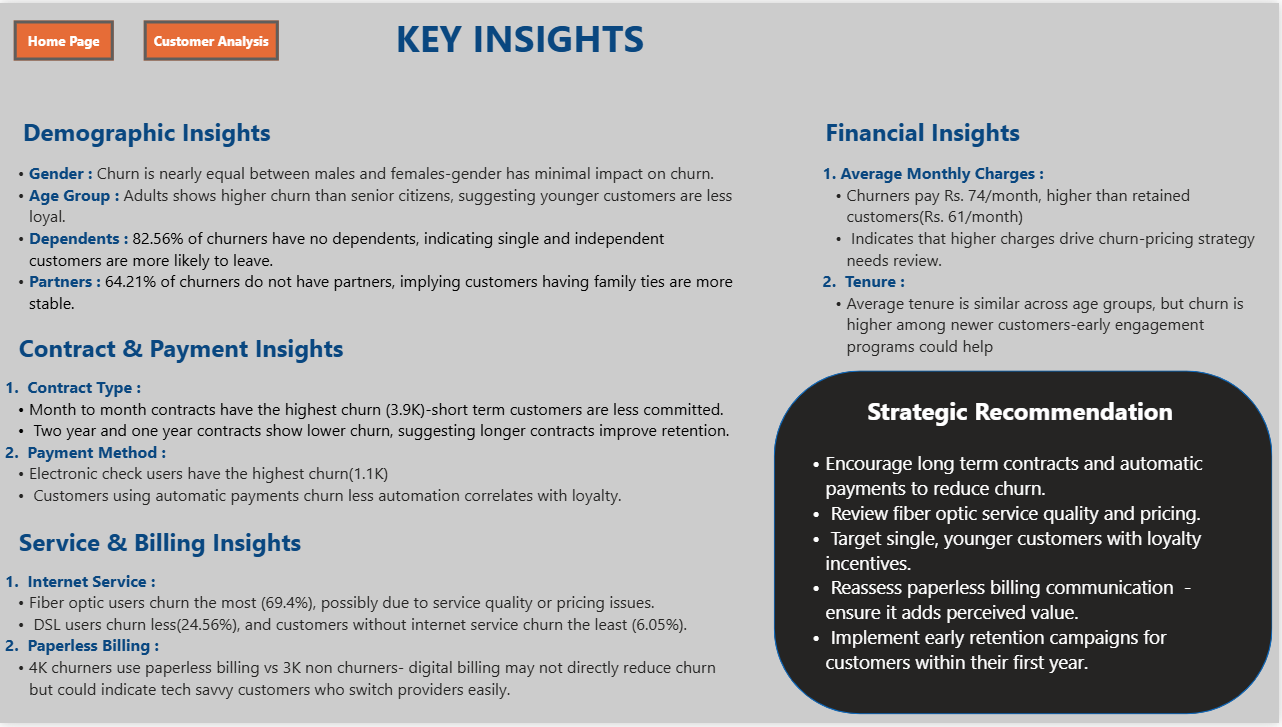

What the dashboard file says about the page in this screenshot:
{"tool":"powerbi","page":{"name":"Key Insights","canvas":[1280,720],"ordinal":2},"visuals":[{"type":"actionButton","box":[13.8,17.5,100,40],"z":0},{"type":"actionButton","box":[143.8,17.5,135,40],"z":1000},{"type":"textbox","box":[370,3.8,300,66.2],"z":2000},{"type":"textbox","box":[0,107.5,300,46.2],"z":3000},{"type":"textbox","box":[0,153.8,738.8,170],"z":4000},{"type":"textbox","box":[13.8,323.8,337.5,43.8],"z":5000},{"type":"textbox","box":[0,367.5,738.8,150],"z":6000},{"type":"textbox","box":[13.8,517.5,300,43.8],"z":7000},{"type":"textbox","box":[0,561.2,738.8,150],"z":8000},{"type":"textbox","box":[772.5,107.5,300,46.2],"z":9000},{"type":"textbox","box":[817.5,153.8,462.5,213.8],"z":10000},{"type":"shape","box":[773.8,367.5,498.8,343.8],"z":11000},{"type":"textbox","box":[862.5,386.2,320,47.5],"z":12000},{"type":"textbox","box":[792.5,442.5,462.5,260],"z":13000}]}

Visuals, with their boxes in screenshot pixels (x1, y1, x2, y2), scaled from the page's 1280x720 canvas onto the 1282x727 screenshot:
actionButton: select_region(14, 18, 114, 58)
actionButton: select_region(144, 18, 279, 58)
textbox: select_region(371, 4, 671, 71)
textbox: select_region(0, 109, 300, 155)
textbox: select_region(0, 155, 740, 327)
textbox: select_region(14, 327, 352, 371)
textbox: select_region(0, 371, 740, 523)
textbox: select_region(14, 523, 314, 567)
textbox: select_region(0, 567, 740, 718)
textbox: select_region(774, 109, 1074, 155)
textbox: select_region(819, 155, 1281, 371)
shape: select_region(775, 371, 1275, 718)
textbox: select_region(864, 390, 1184, 438)
textbox: select_region(794, 447, 1257, 709)
